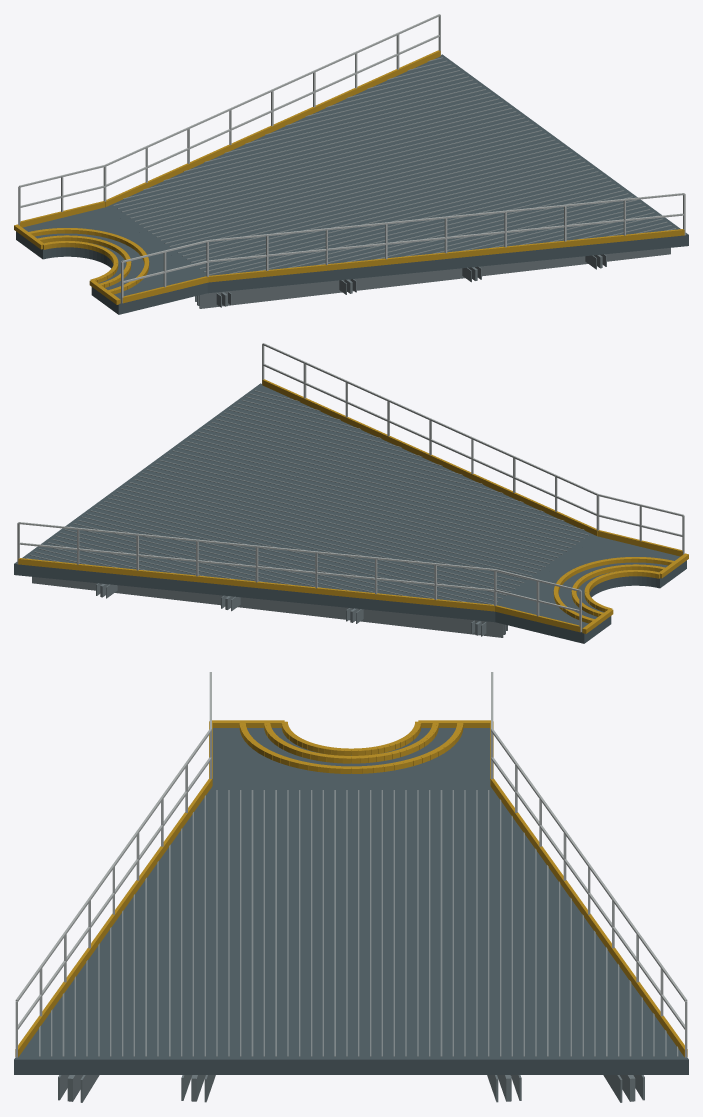
The model's file is platform_half.glb.
3 views of the same model, one above another, from view 1: azimuth 30°, elevation 25°; view 2: azimuth 150°, elevation 25°; view 3: azimuth 270°, elevation 25° (orthographic). The views are drawn at different scales.
Parts seen in each view (by area): view 1: body, slot_cut__l, slot_cut__m, slot_cut__s; view 2: body, slot_cut__l, slot_cut__s, slot_cut__m; view 3: body, slot_cut__l, slot_cut__m, slot_cut__s.
Boxes of the visible parts, x1,y1,x2,y2 form: body: [18, 14, 688, 308]; slot_cut__l: [14, 207, 207, 314]; slot_cut__m: [14, 216, 200, 313]; slot_cut__s: [14, 219, 184, 312]; body: [14, 343, 684, 637]; slot_cut__l: [495, 536, 688, 643]; slot_cut__s: [508, 546, 688, 642]; slot_cut__m: [509, 551, 688, 643]; body: [14, 672, 688, 1102]; slot_cut__l: [212, 720, 490, 785]; slot_cut__m: [212, 720, 490, 785]; slot_cut__s: [212, 720, 489, 785].
Bounding box in the file's own units: 14.11 × 1.94 × 12.
